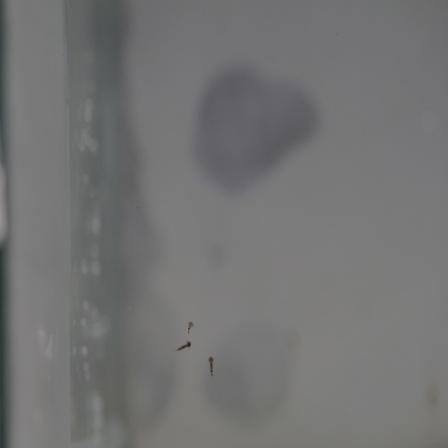Jentik-Nyamuk: (205, 354, 218, 385), (173, 339, 195, 354)
